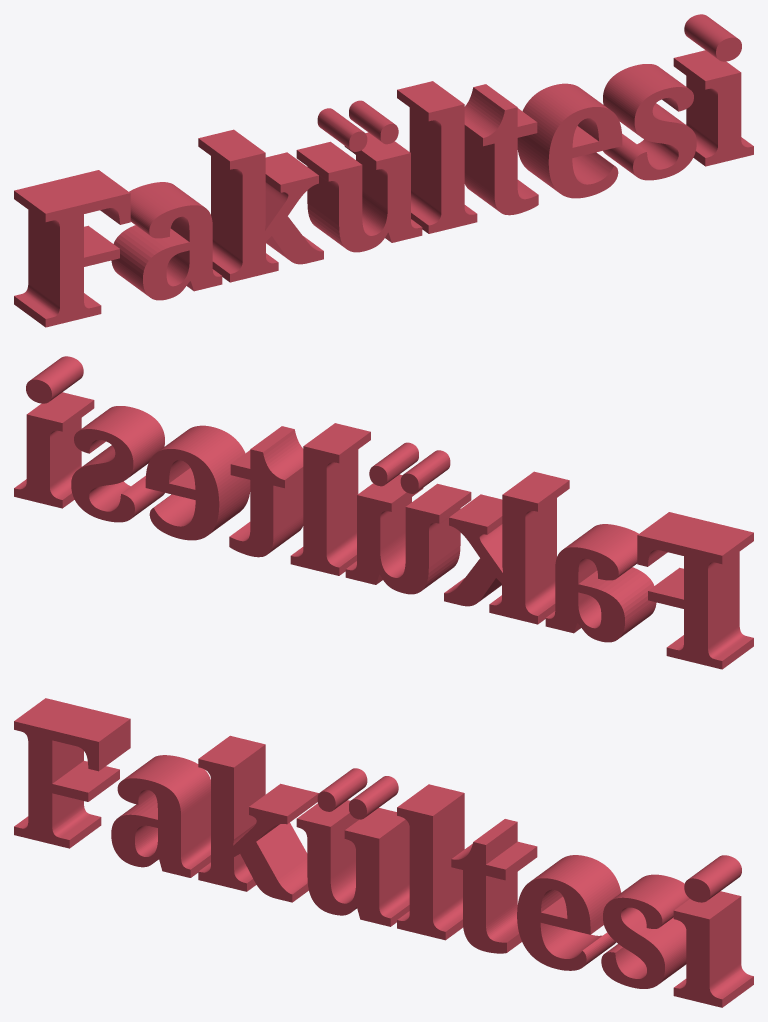
The picture shows the model from 3 angles, top to bottom: view 1: azimuth 30°, elevation 25°; view 2: azimuth 150°, elevation 25°; view 3: azimuth 330°, elevation 25°; orthographic projection.
Parts seen in each view (by area): view 1: Mesh_Mesh_head_geo.001_lambert2SG.001; view 2: Mesh_Mesh_head_geo.001_lambert2SG.001; view 3: Mesh_Mesh_head_geo.001_lambert2SG.001.
Part boxes in pixels (left/top/right/bottom): Mesh_Mesh_head_geo.001_lambert2SG.001: left=14, top=14, right=753, bottom=327; Mesh_Mesh_head_geo.001_lambert2SG.001: left=14, top=356, right=753, bottom=669; Mesh_Mesh_head_geo.001_lambert2SG.001: left=14, top=698, right=753, bottom=1007.
Bounding box in the file's own units: 0.1291 × 0.0217 × 0.01.
